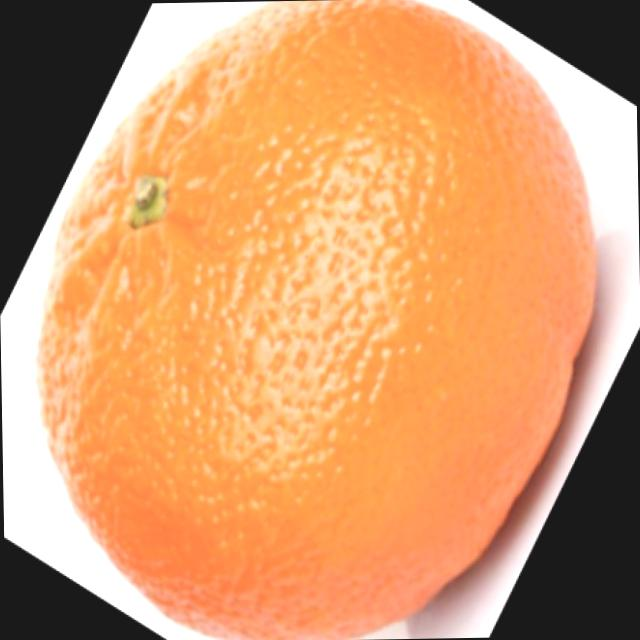orange: (25, 0, 623, 627)
